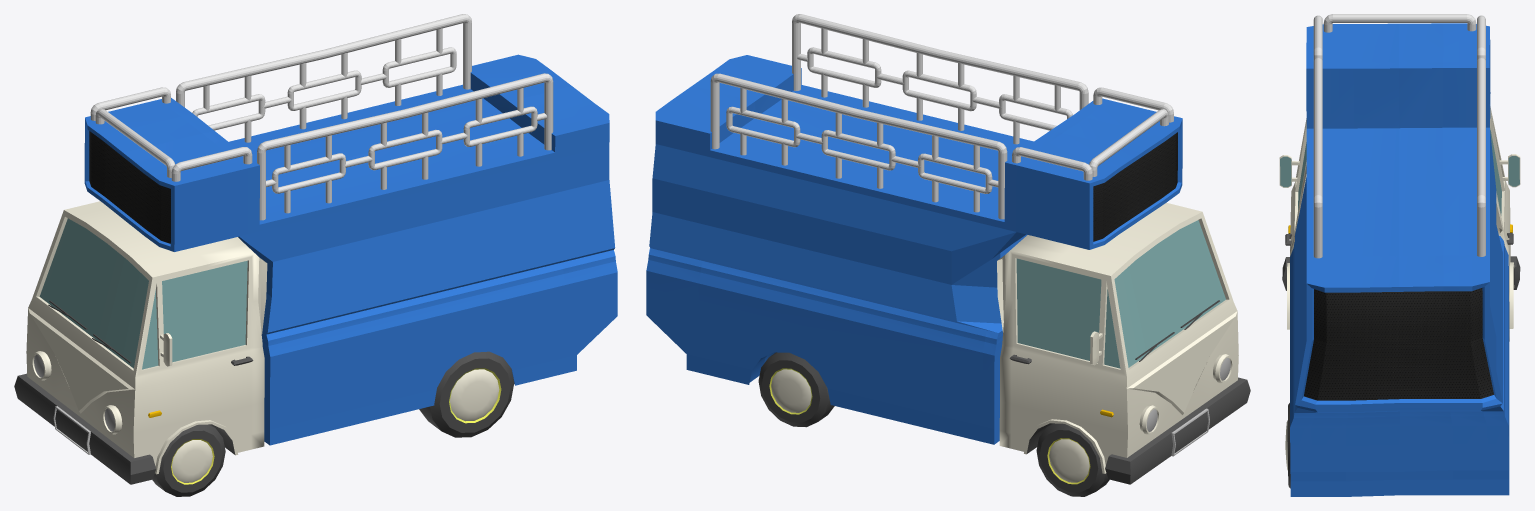
File: Trio Eletrico2.fbx
3 renders of one model, left to right at view 1: azimuth 30°, elevation 25°; view 2: azimuth 150°, elevation 25°; view 3: azimuth 270°, elevation 25°, orthographic.
Parts seen in each view (by area): view 1: Car.001, Car.19, Cylinder.009, Cylinder, left wheel.001, left wheel.029, Cylinder.001, Cylinder.003; view 2: Car.001, Car.19, Cylinder.009, Cylinder, right wheel.032, right wheel.031, Cylinder.001, Cylinder.003; view 3: Car.001, Car.19, Cylinder, Cylinder.003, Cylinder.001, left wheel.001.
Part boxes in pixels (x1,y1,x2,y2): Car.001: (84,54,617,445); Car.19: (14,201,267,484); Cylinder.009: (192,28,537,213); Cylinder: (176,14,553,220); left wheel.001: (419,351,514,437); left wheel.029: (152,424,225,496); Cylinder.001: (90,87,252,181); Cylinder.003: (95,109,175,177); Car.001: (646,55,1182,444); Car.19: (997,202,1250,484); Cylinder.009: (726,28,1072,212); Cylinder: (710,14,1088,219); right wheel.032: (758,352,834,427); right wheel.031: (1036,423,1109,496); Cylinder.001: (1012,87,1173,180); Cylinder.003: (1089,109,1168,176); Car.001: (1290,23,1509,496); Car.19: (1279,106,1520,341); Cylinder: (1313,57,1485,258); Cylinder.003: (1323,14,1476,32); Cylinder.001: (1313,15,1485,60); left wheel.001: (1285,403,1290,488).
Size of the model in its own units: 536 by 342 by 222.
3 materials, 2 textured.
